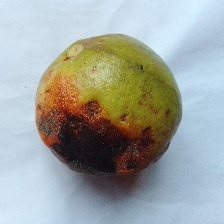guava: (50, 51, 207, 187)
